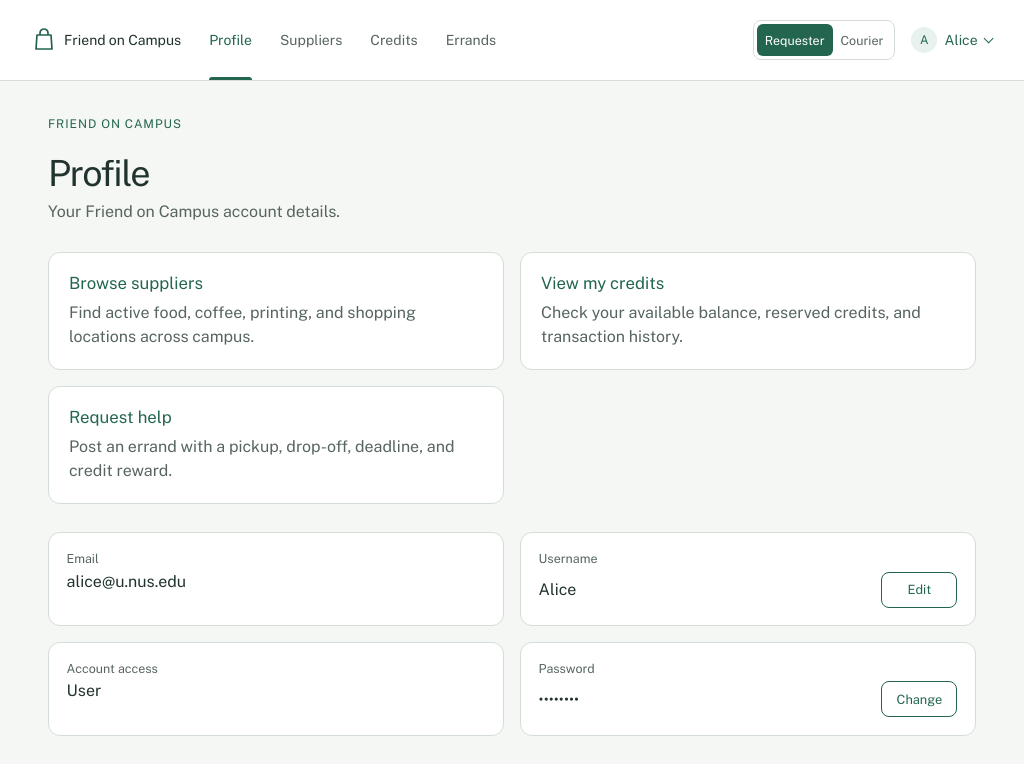
uses a compact masked password card and clears its draft when cancelled
Expected: the text named "Password is set" reads "••••••••", [539,690,579,709]
Click the button "Change" at (919, 699), box [881,681,957,717]
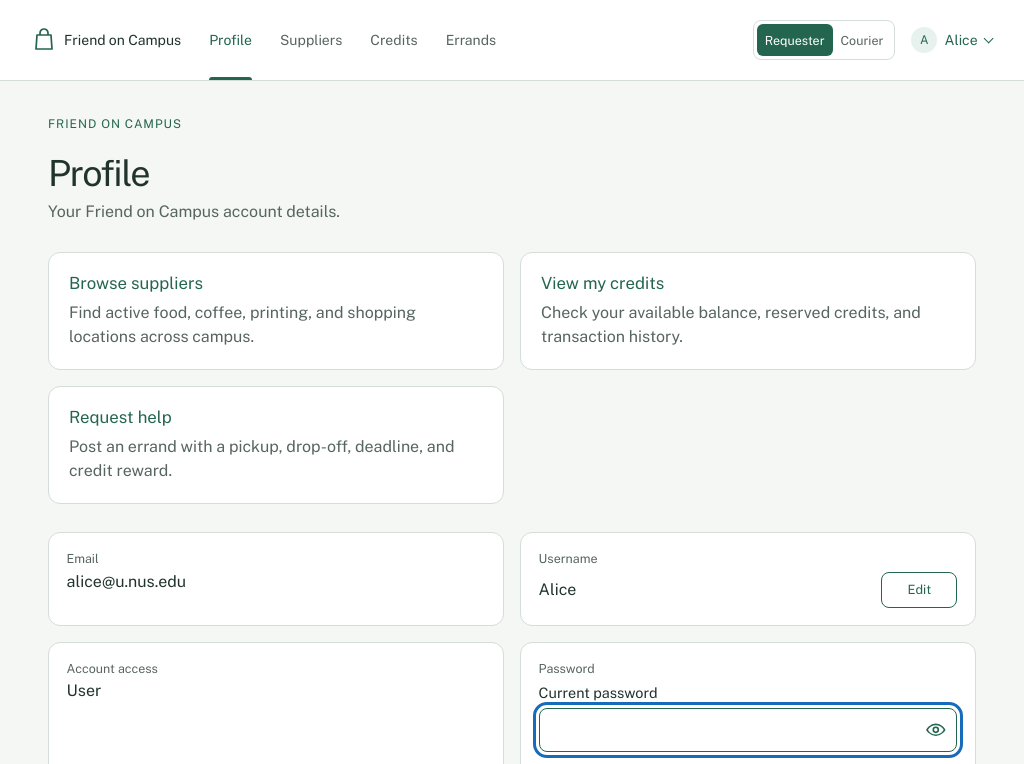
Type "current-password-with-15-chars" into the password field labelled "Current password" at (748, 730), box [539,708,957,752]
Then press Enter
(page scrolled)
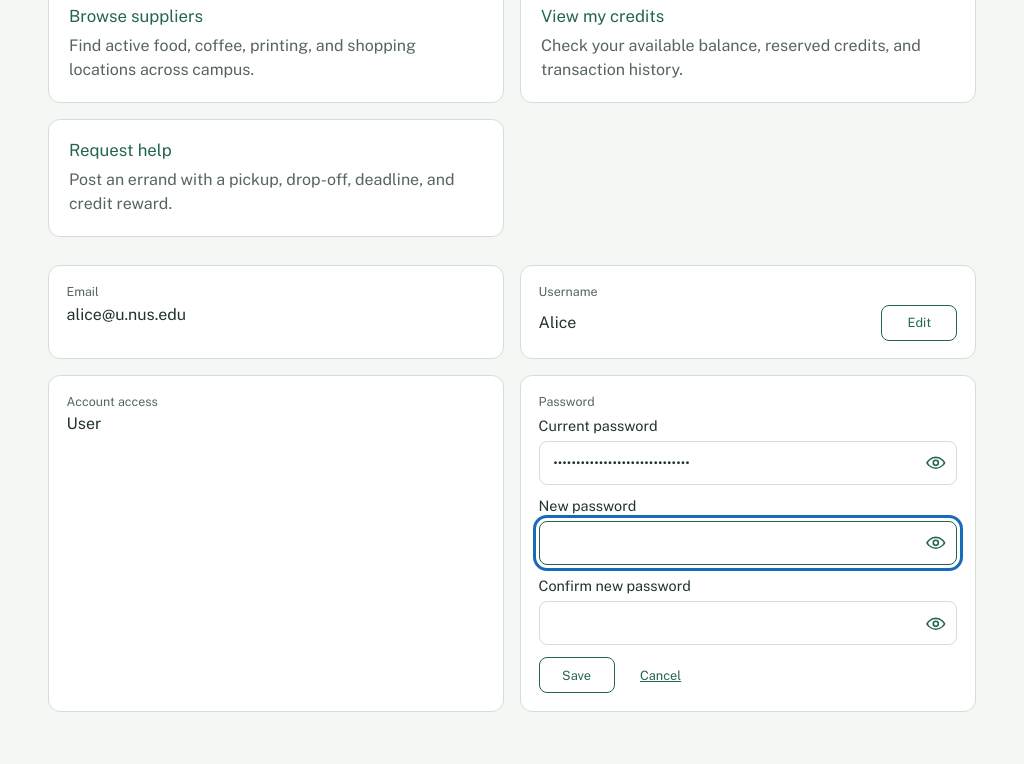
Type "replacement-password-with-15-chars" into the password field labelled "New password" at (748, 543), box [539,521,957,565]
Then press Enter
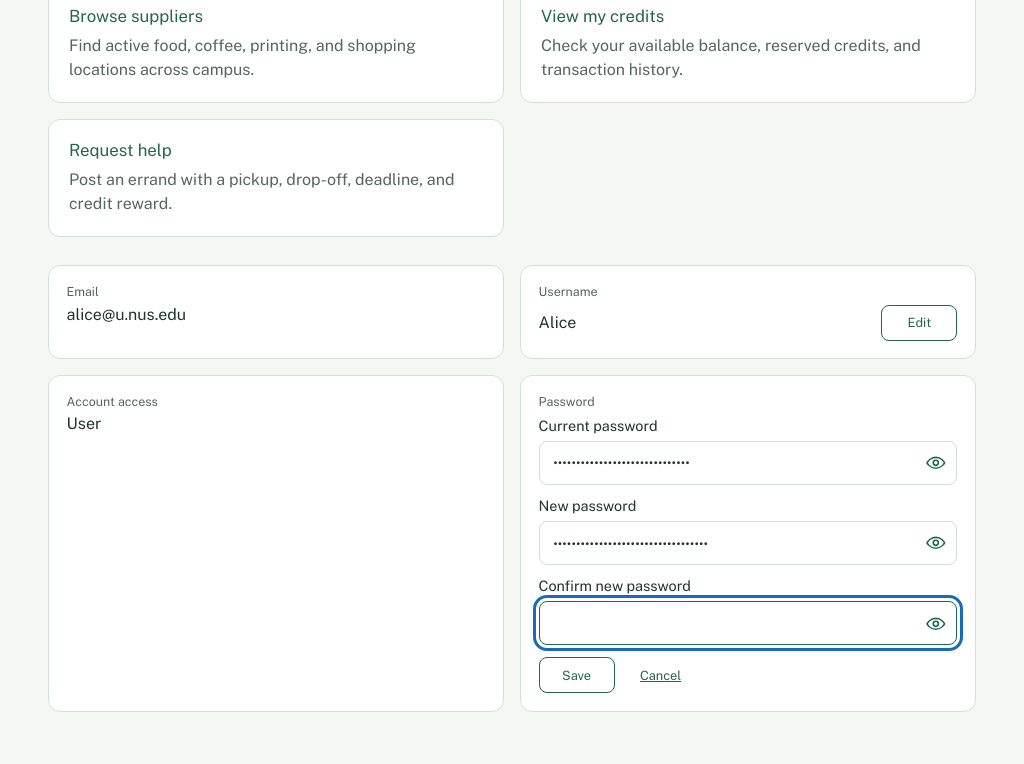
Click the button "Cancel" at (661, 675), box [623,657,699,693]
(page scrolled)
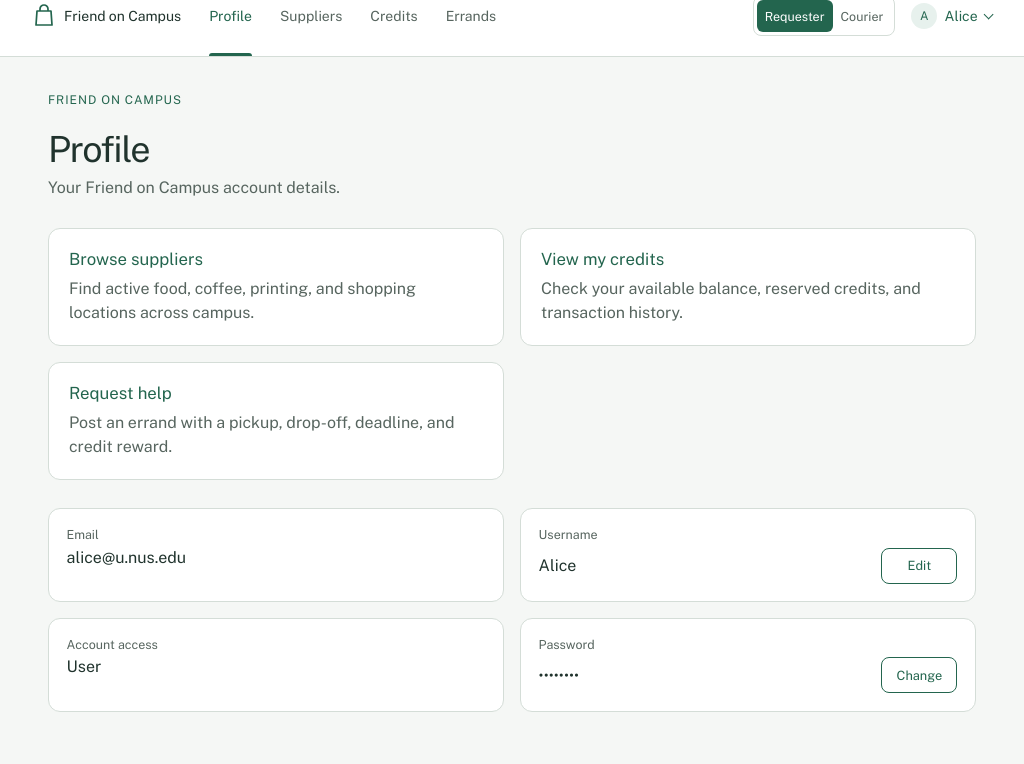
Now the form "Change password form" is gone
Now the text named "Password is set" is shown, box [539,666,579,685]
